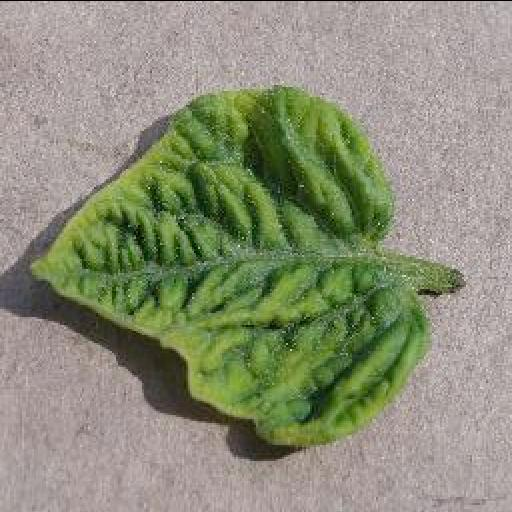disease_tomato: (24, 82, 432, 444)
